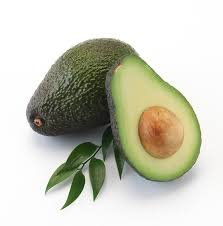avocado: (106, 53, 202, 182)
